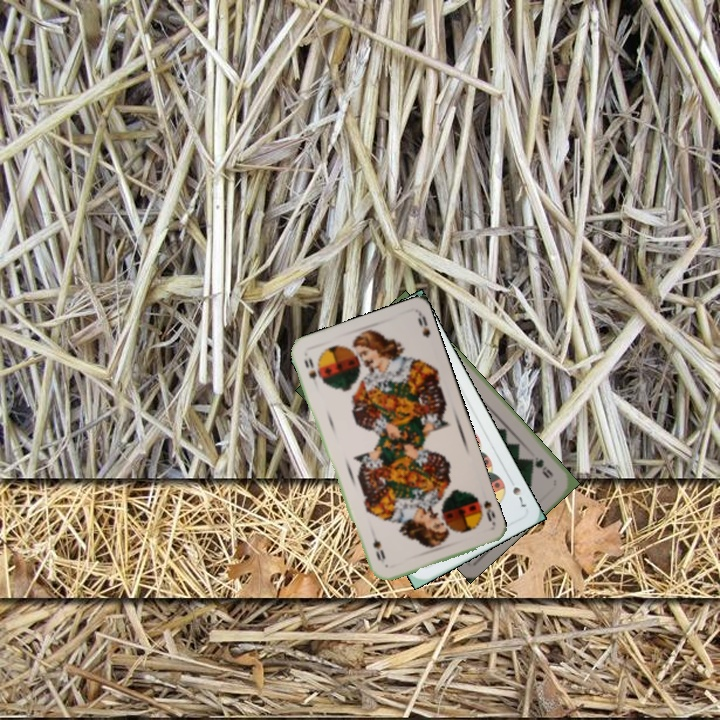G9: (525, 453, 556, 481)
S7: (508, 482, 530, 510)
SO: (470, 492, 498, 528), (300, 354, 319, 382)
